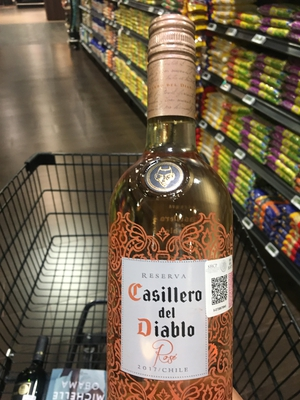casillero del diablo rose: (108, 21, 258, 400)
